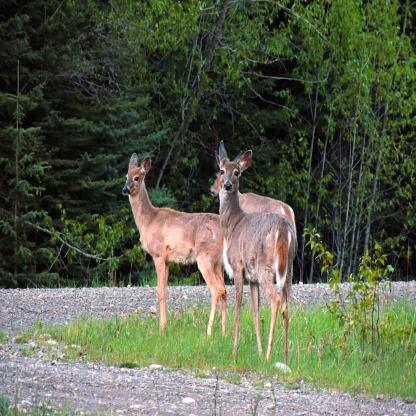Deer: (123, 152, 224, 338), (221, 145, 286, 374)
